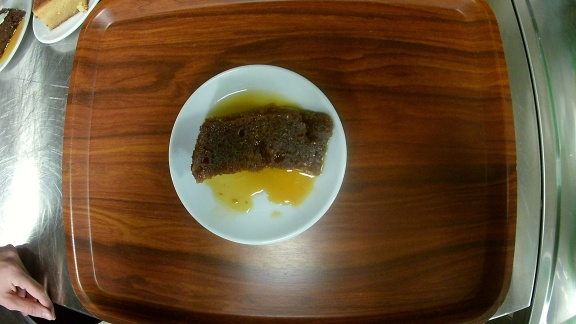ekmekkadayifi: (170, 64, 349, 244)
